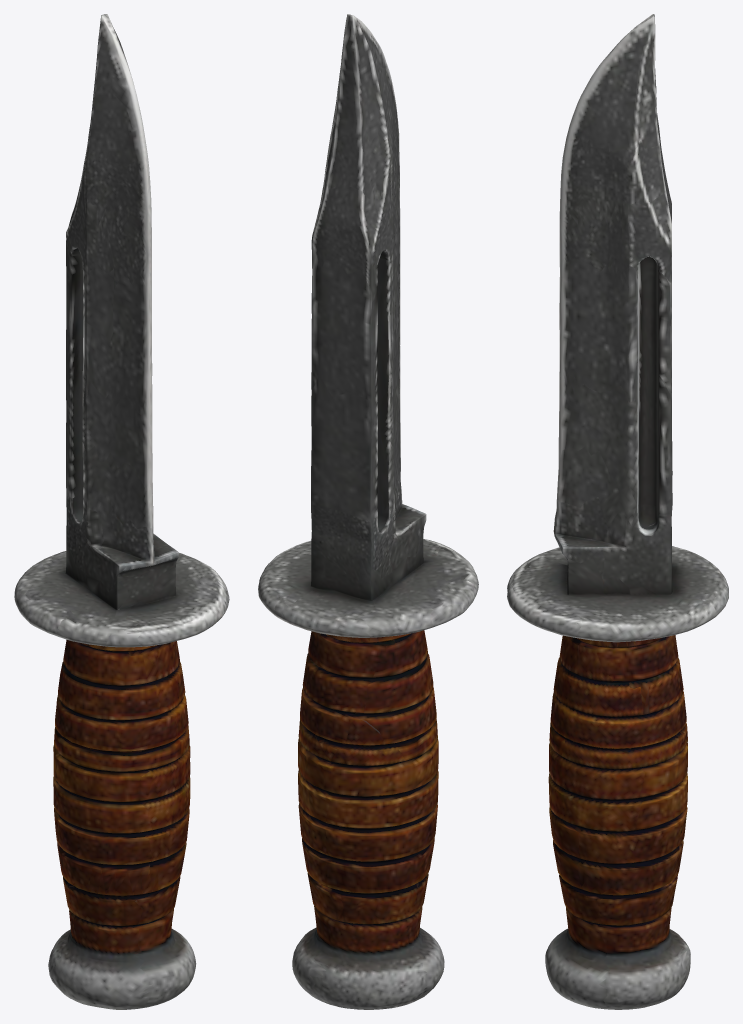
Rendered from combat_knife.0ac2a5cc05.glb.
3 renders of one model, left to right at view 1: azimuth 30°, elevation 25°; view 2: azimuth 150°, elevation 25°; view 3: azimuth 270°, elevation 25°, orthographic. The views are drawn at different scales.
Parts seen in each view (by area): view 1: combat_knife; view 2: combat_knife; view 3: combat_knife.
Part boxes in pixels (x1,y1,x2,y2): combat_knife: (14,14,229,1009); combat_knife: (258,14,478,1009); combat_knife: (507,14,728,1009).
Size of the model in its own units: 0.061 by 0.3 by 0.0623.
Materials: 1 (1 with a texture image).
